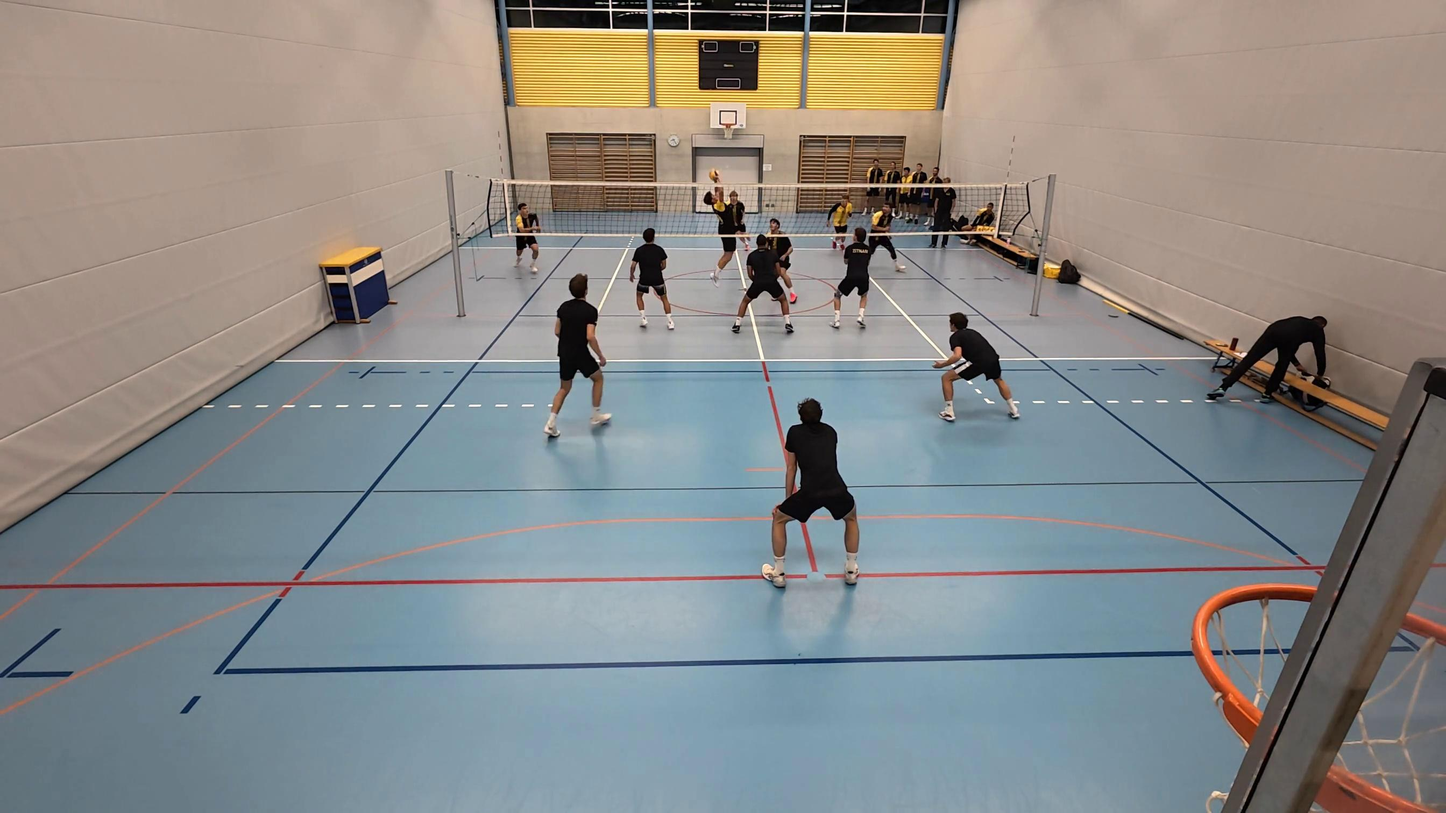Player: (762, 398, 859, 587), (544, 273, 611, 438), (938, 312, 1019, 422), (732, 231, 794, 333), (831, 227, 875, 329), (632, 226, 675, 330), (762, 217, 796, 304), (866, 202, 906, 274), (512, 202, 541, 277), (828, 195, 855, 252)
Set: (700, 171, 741, 281)
ball: (707, 169, 720, 182)
